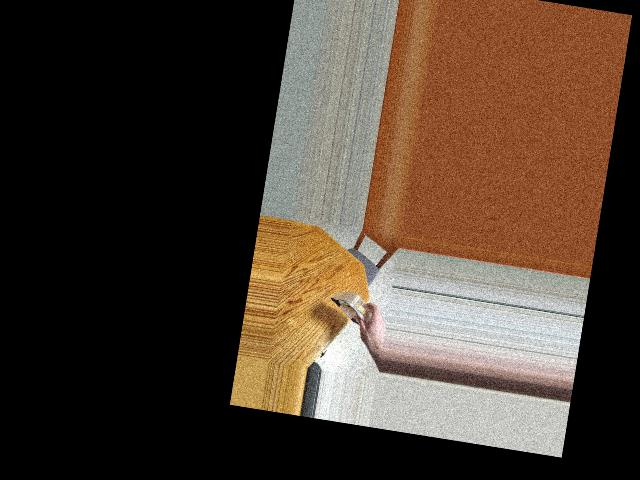cheese: (329, 283, 380, 342)
